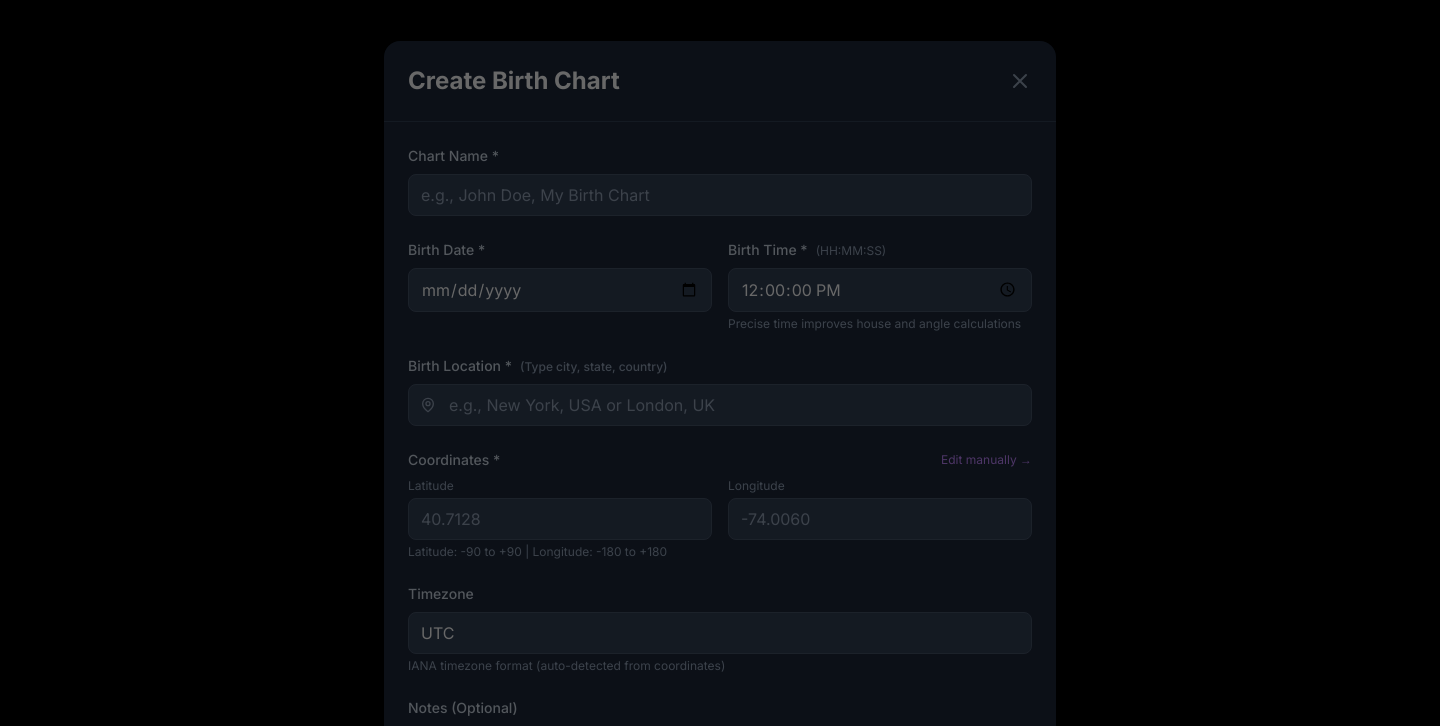
BirthChartForm - Geocoding Integration › Auto-population › should auto-fill timezone when location is selected
In the field with placeholder "e.g., New York, USA or London, UK": (720, 404) [408,384,1032,426], type "Tokyo"
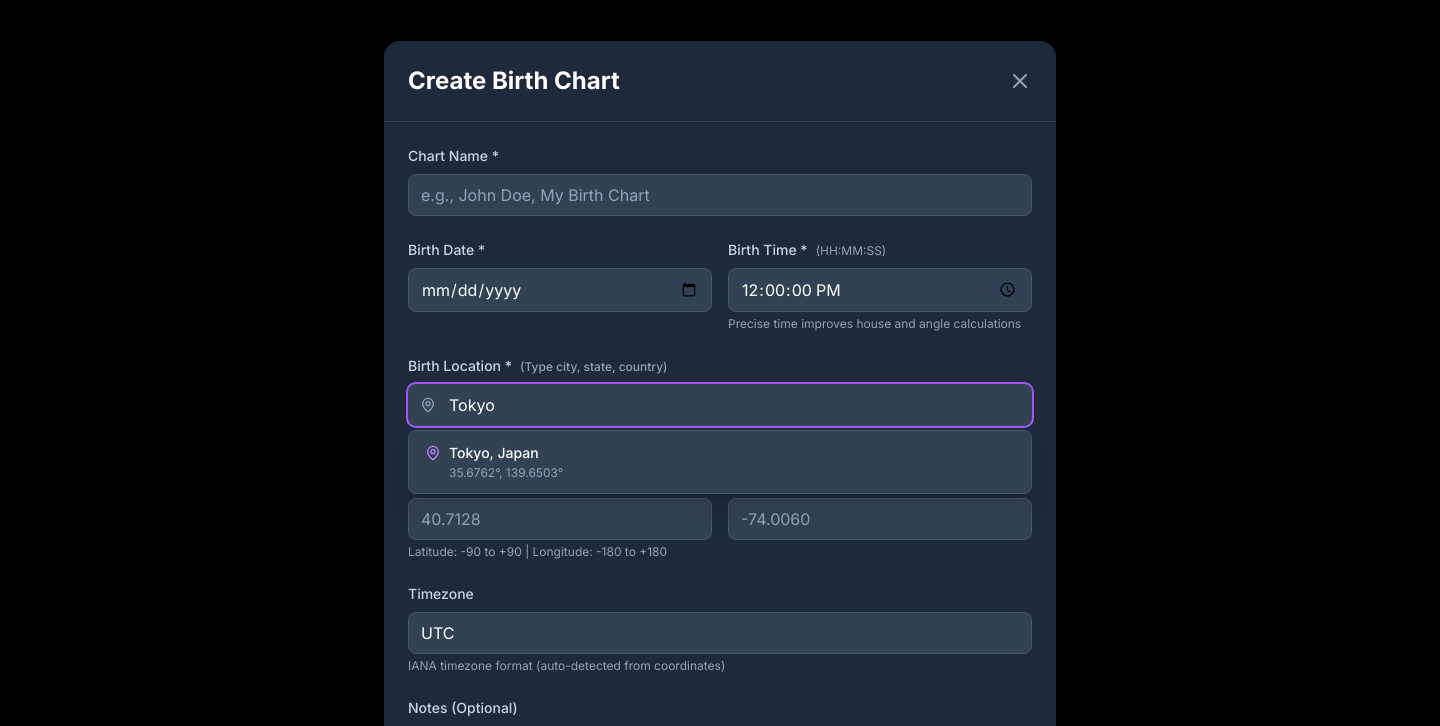
Expected: the text "Tokyo, Japan" is shown
Click the text "Tokyo, Japan": (494, 452) [449,444,539,460]
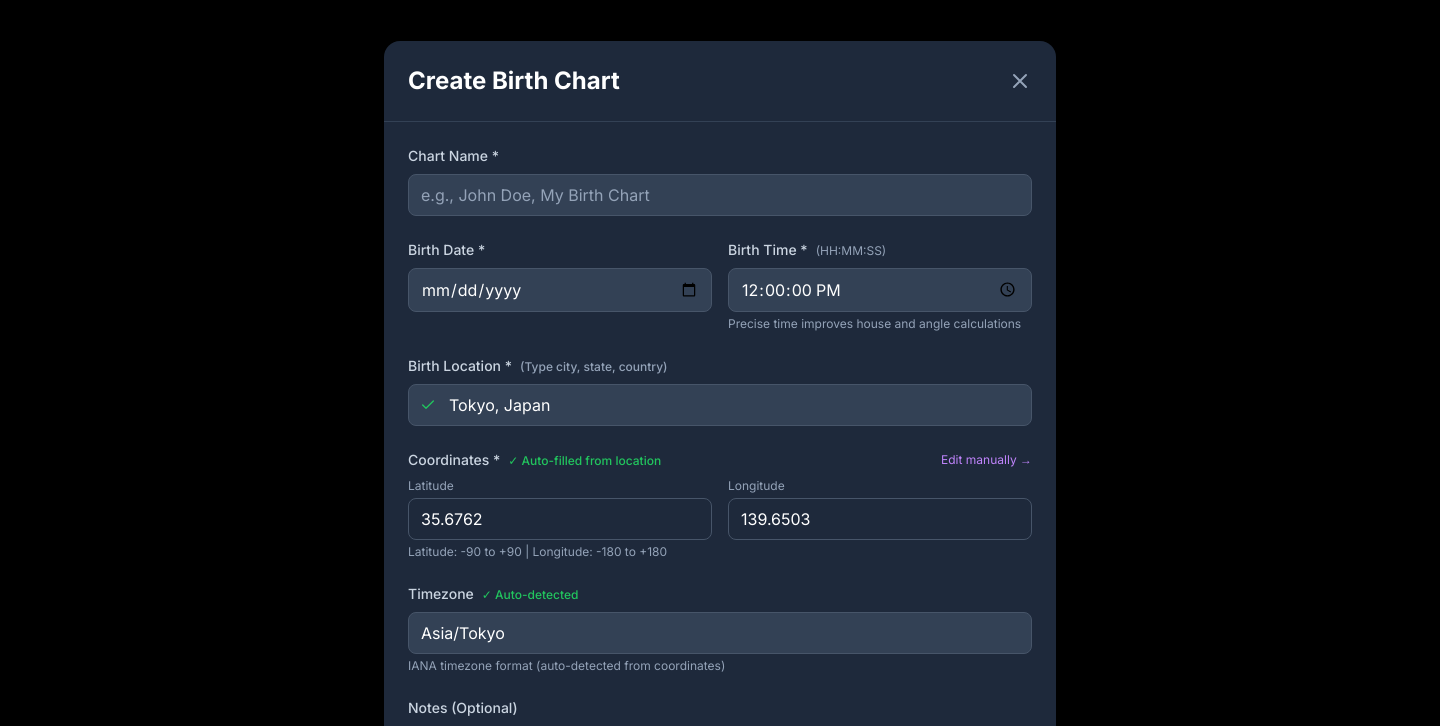
Expected: the field labelled "Timezone✓ Auto-detected" holds "Asia/Tokyo", [408,612,1032,654]
